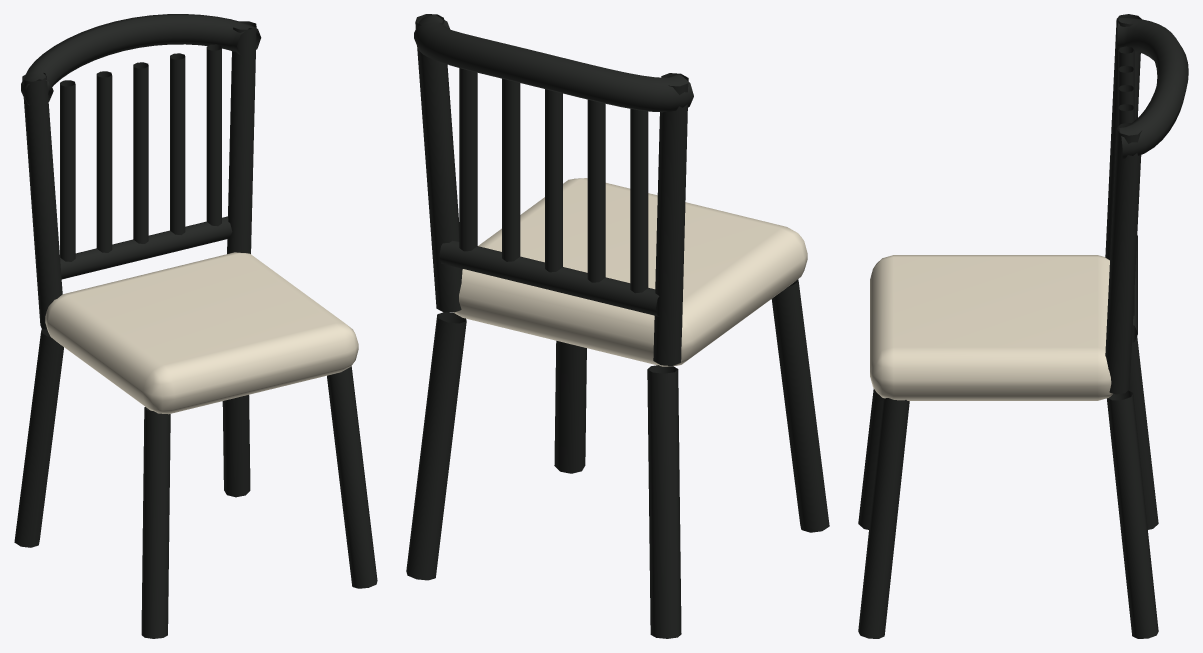
Rendered from wh-banquet-chair.glb.
3 renders of one model, left to right at view 1: azimuth 30°, elevation 25°; view 2: azimuth 150°, elevation 25°; view 3: azimuth 270°, elevation 25°, orthographic. The views are drawn at different scales.
Visible parts, largest first — view 1: Chair leg.004, Upholstered seat.001; view 2: Chair leg.004, Upholstered seat.001; view 3: Upholstered seat.001, Chair leg.004.
Boxes of the visible parts, x1=… form: Chair leg.004: x1=14, y1=14, x2=377, y2=638; Upholstered seat.001: x1=45, y1=252, x2=358, y2=414; Chair leg.004: x1=406, y1=14, x2=829, y2=638; Upholstered seat.001: x1=453, y1=178, x2=807, y2=366; Upholstered seat.001: x1=870, y1=255, x2=1112, y2=400; Chair leg.004: x1=858, y1=14, x2=1188, y2=638.
Bounding box in the file's own units: 0.48 × 0.94 × 0.54.
